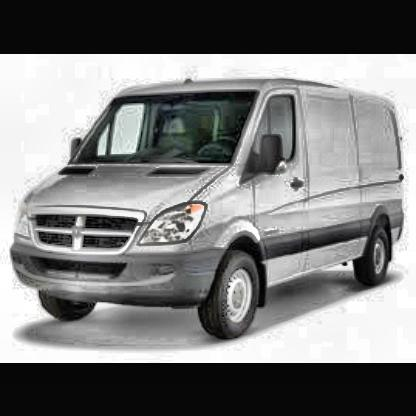Dodge Sprinter Cargo Van 2009: (15, 75, 406, 345)
